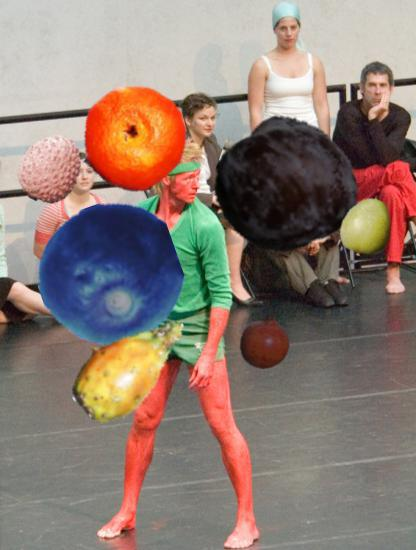Cactus: (65, 300, 198, 433)
Clementine: (78, 84, 188, 194)
Huckleberry: (38, 204, 181, 347)
Lychee: (14, 131, 87, 204)
Pear: (335, 192, 400, 257)
Plum: (214, 113, 361, 260)
Pomegranate: (236, 312, 294, 370)
